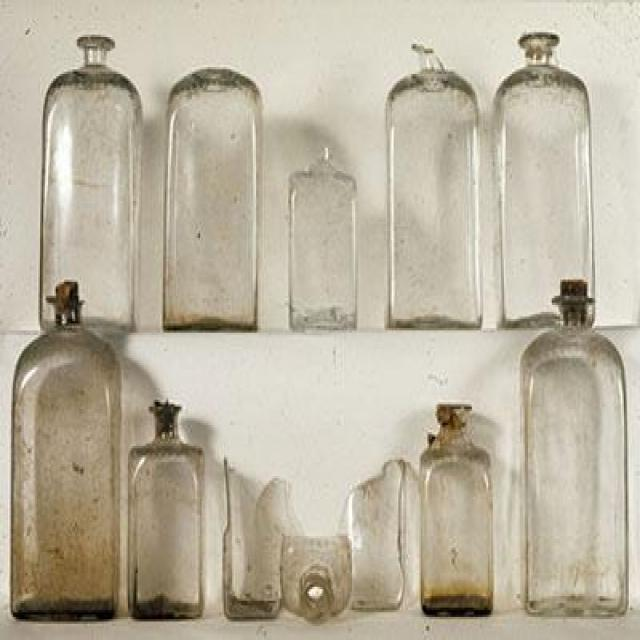glass: (3, 276, 120, 622), (521, 277, 633, 615), (489, 29, 598, 327), (39, 26, 140, 336), (383, 35, 484, 338), (158, 64, 264, 340), (416, 401, 498, 618), (287, 140, 364, 334), (220, 454, 289, 625)
